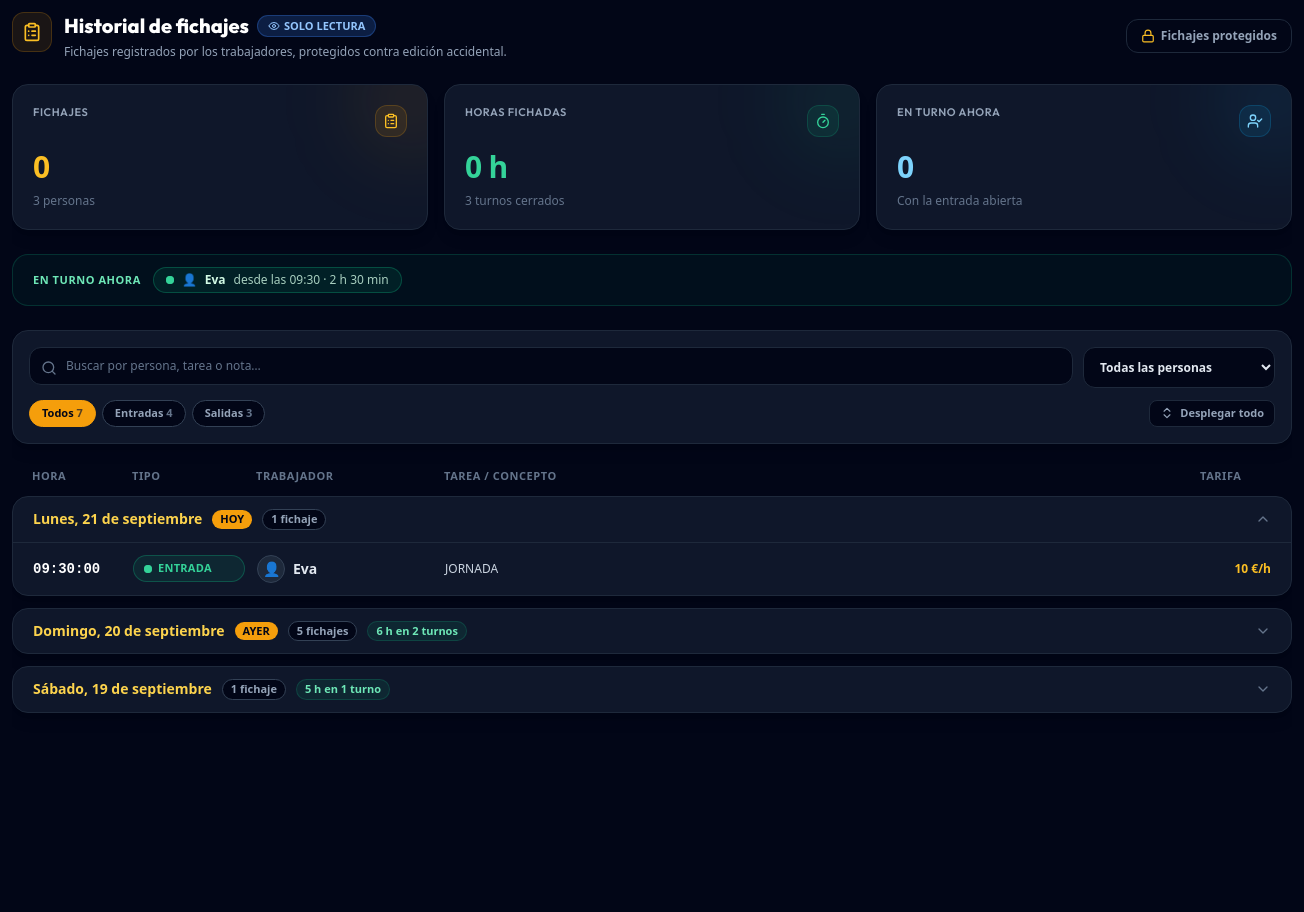
Test: FichajesTab › filtra por tipo y por persona; sin resultados lo dice y ofrece quitar los filtros
Click the button "Salidas 3" at (229, 413), box [192,400,265,426]
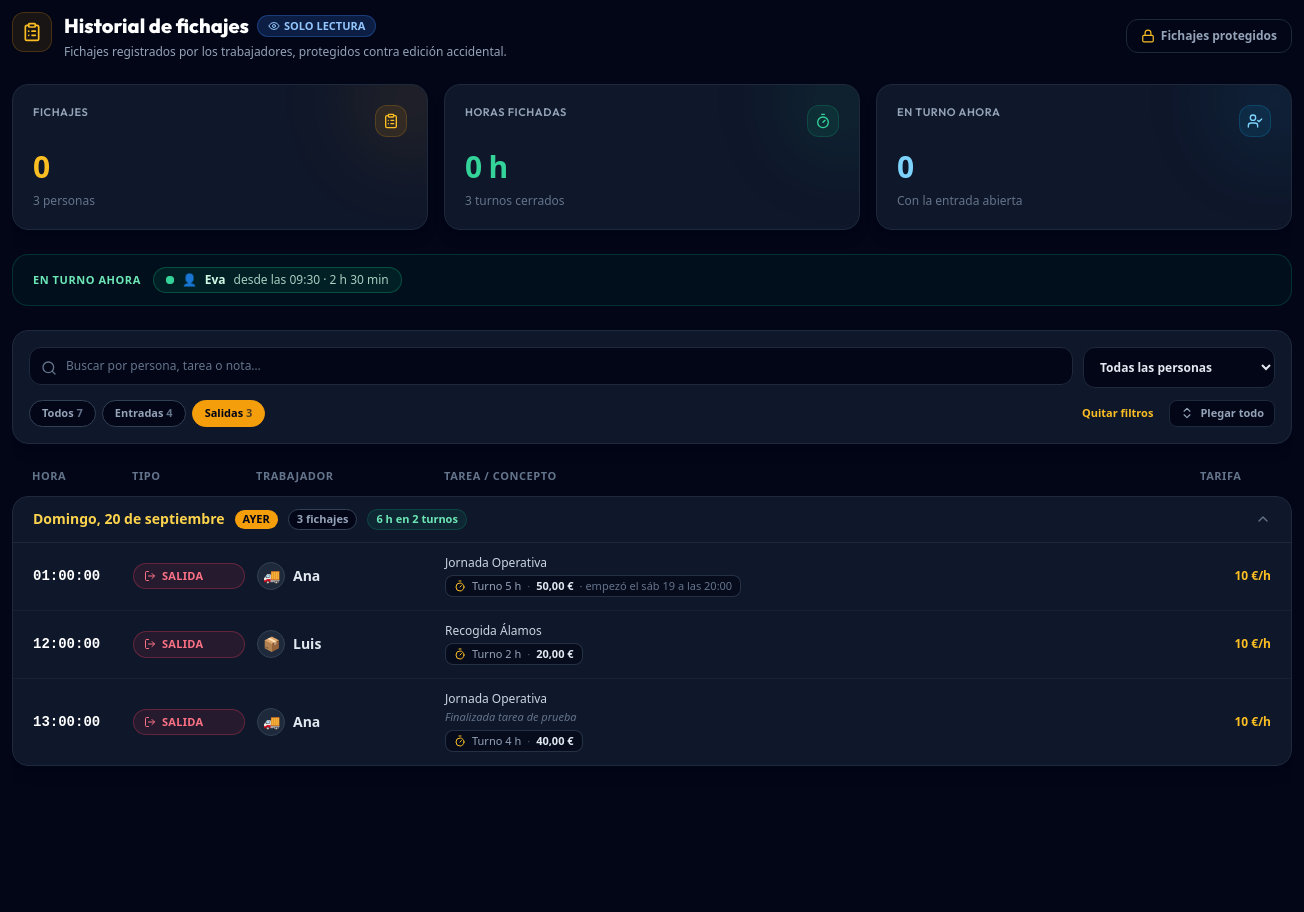
Result: the button "Lunes, 21 de septiembre" is gone
Select "Eva" in the dropdown named "Filtrar por persona" at (1179, 368), box [1083,347,1275,388]
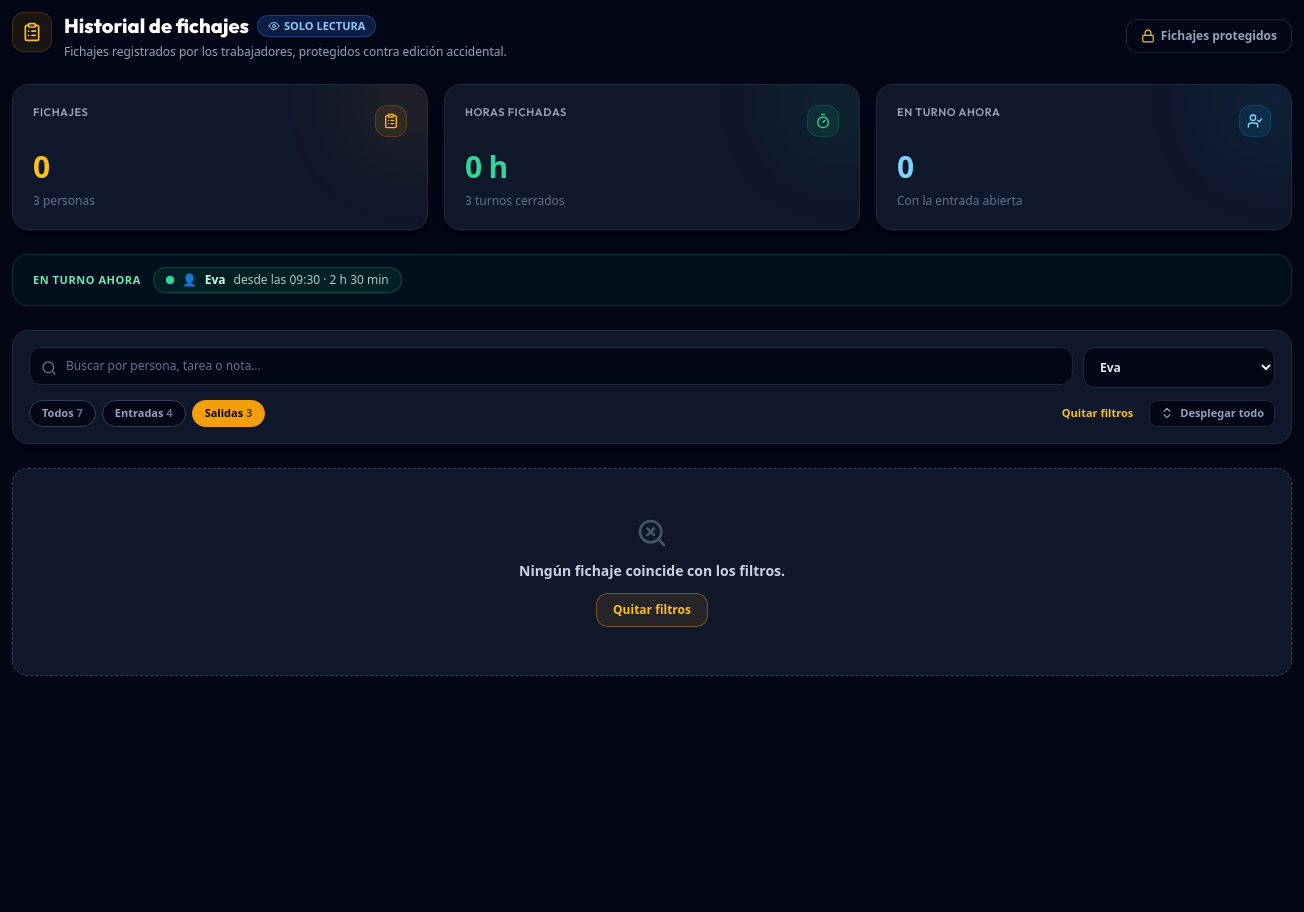
Result: the text "Ningún fichaje coincide con los filtros." is shown at [519,560,785,580]
Click the 1st button "Quitar filtros" at (1098, 413), box [1052,401,1143,426]
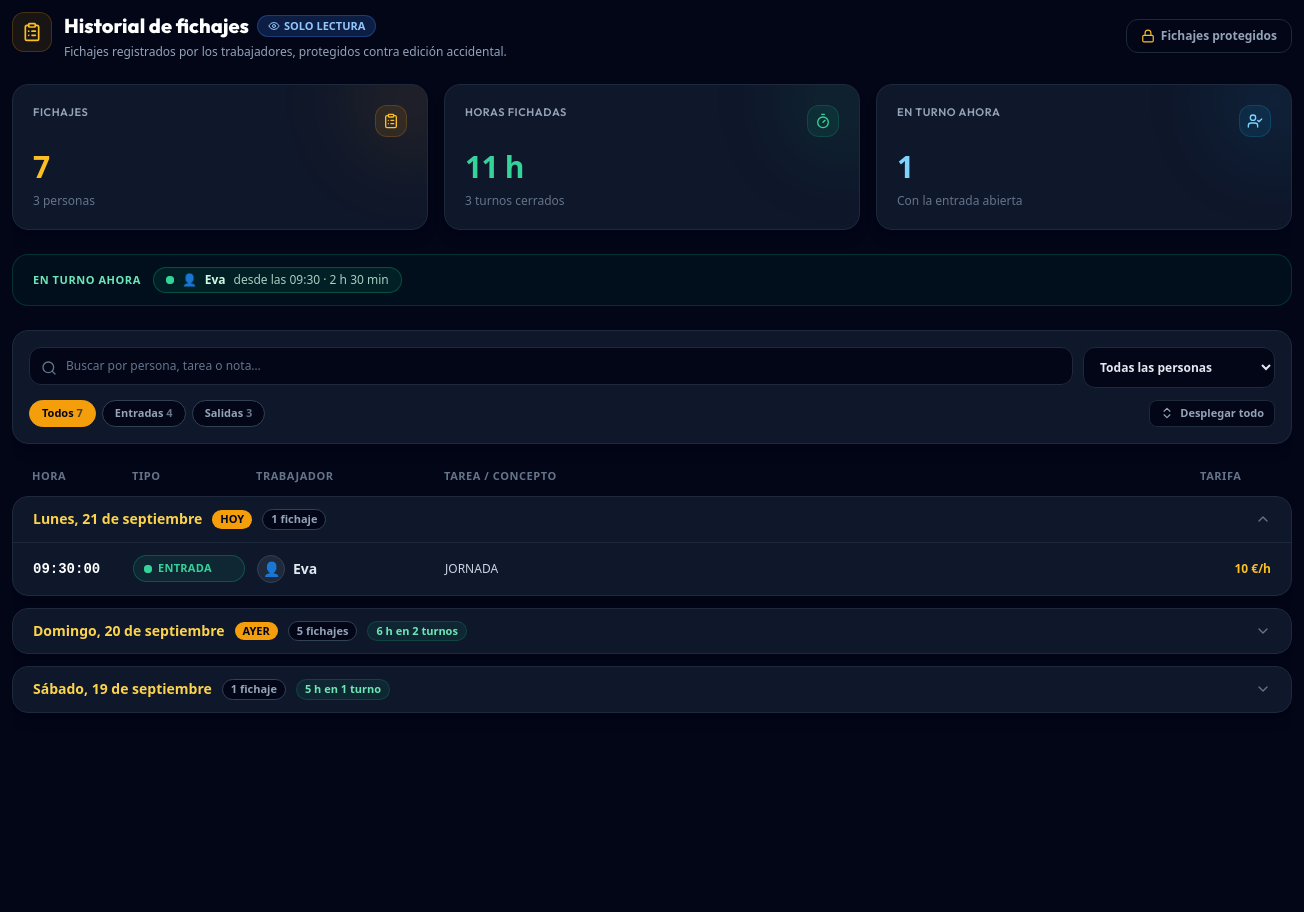
Result: the button "Lunes, 21 de septiembre Hoy 1 fichaje" is shown at [13,497,1291,542]
